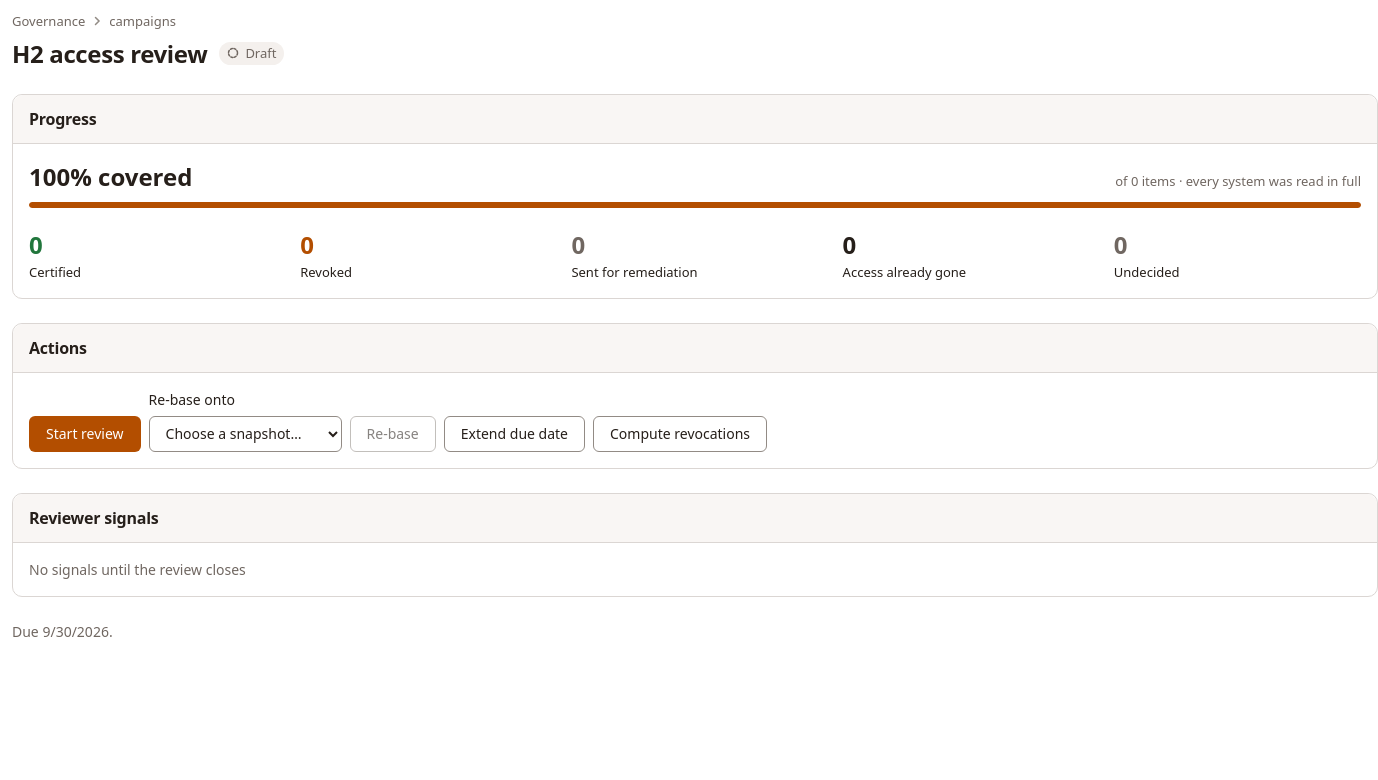
Scenario: starting a campaign › renders the server refusal when starting is refused
Click the button "Start review" at (85, 434), box [29,416,140,452]
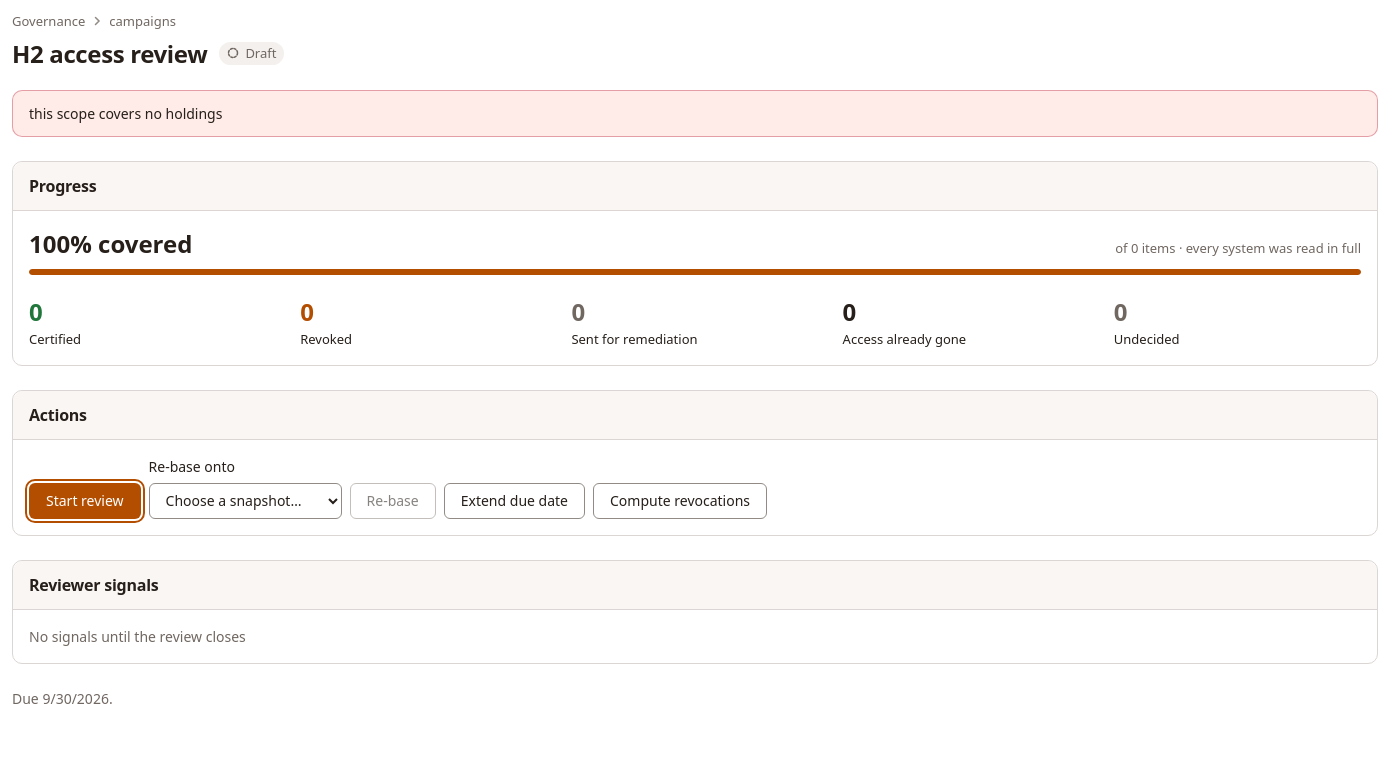
Result: the text "this scope covers no holdings" is shown at [29,104,222,123]
